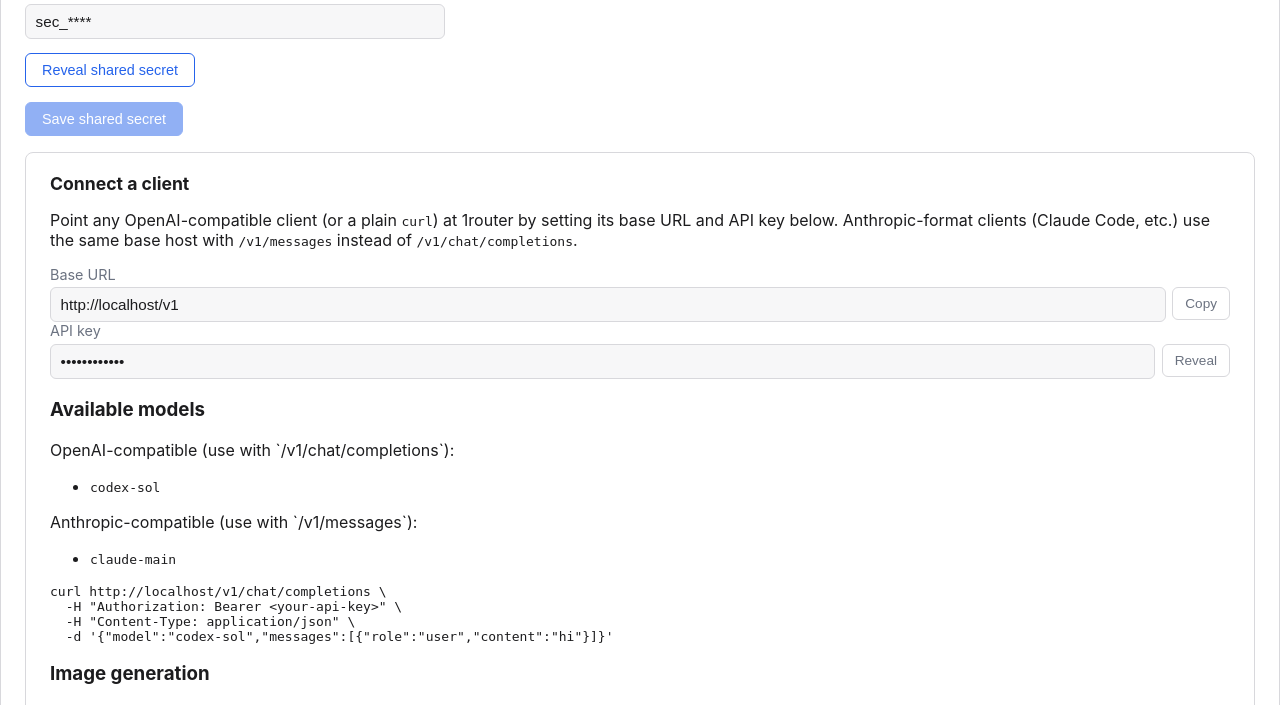
Test: Integration › reveal_button_in_connect_guide_shows_the_real_shared_secret
The width and height of the screenshot is (1280, 705).
(page scrolled)
Expected: the text "codex-sol" is shown, [90,480,160,495]
Click the button "Reveal": x=1196, y=361 [1162,344,1230,377]
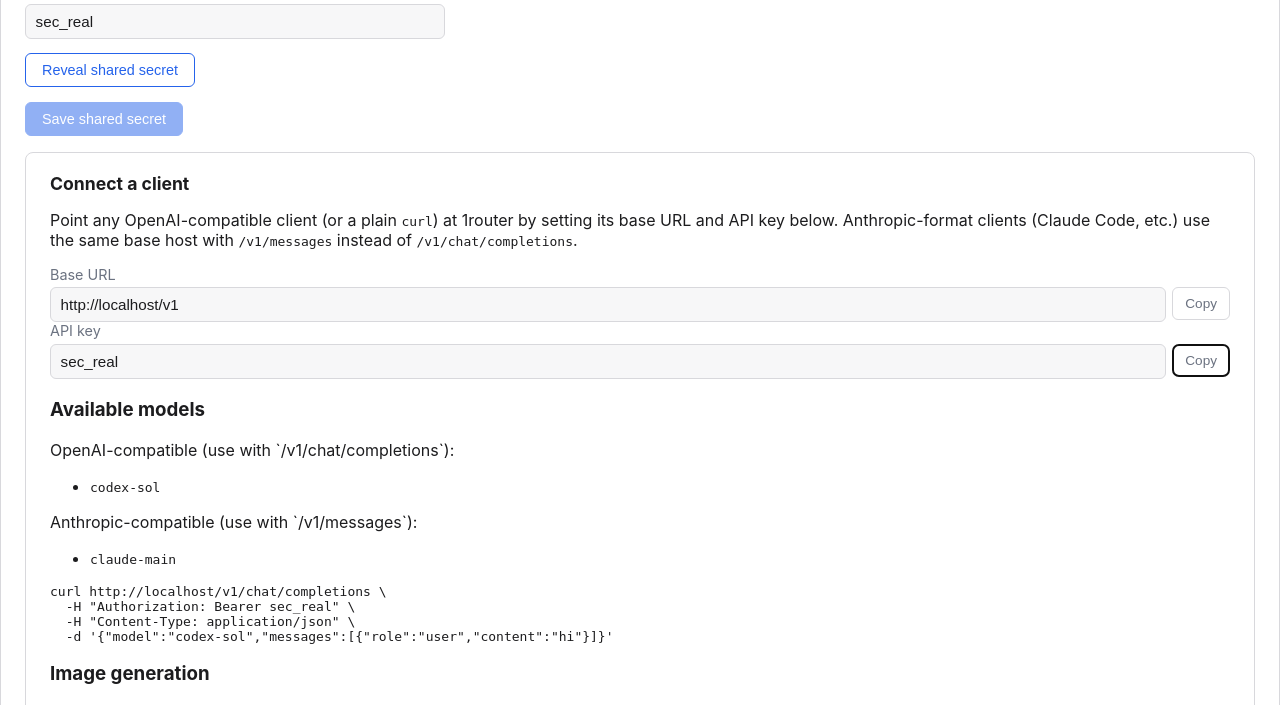
Expected: the field named "API key for client connections" holds "sec_real", [50,344,1166,379]
